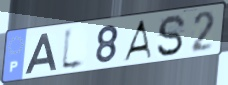2: (191, 9, 217, 54)
8: (94, 23, 121, 66)
A: (24, 31, 59, 76), (121, 18, 154, 63)
L: (59, 24, 87, 73)
S: (155, 14, 188, 58)
